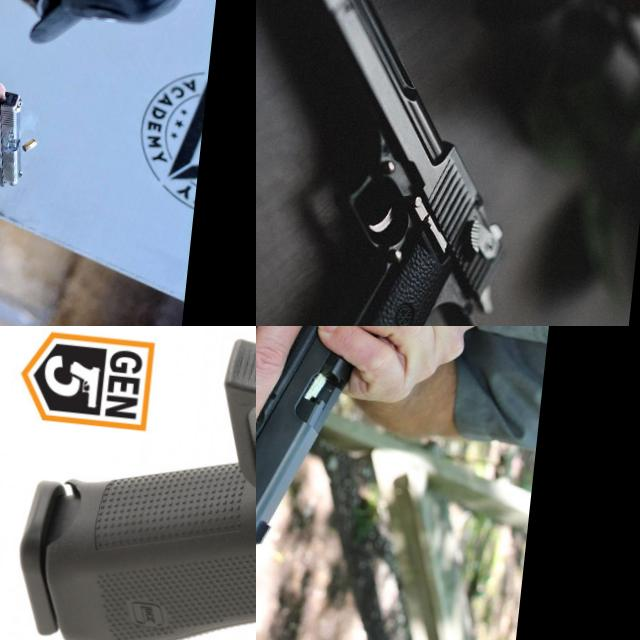handgun: (256, 0, 543, 326), (4, 326, 256, 640), (256, 326, 361, 594), (0, 86, 32, 191)
